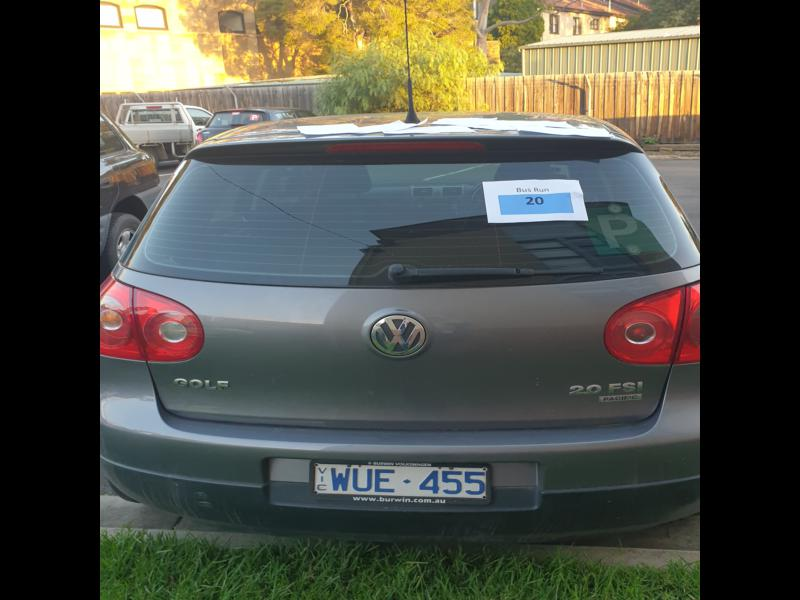BusRun: (497, 193, 577, 215)
PlateNo: (313, 462, 486, 494)
